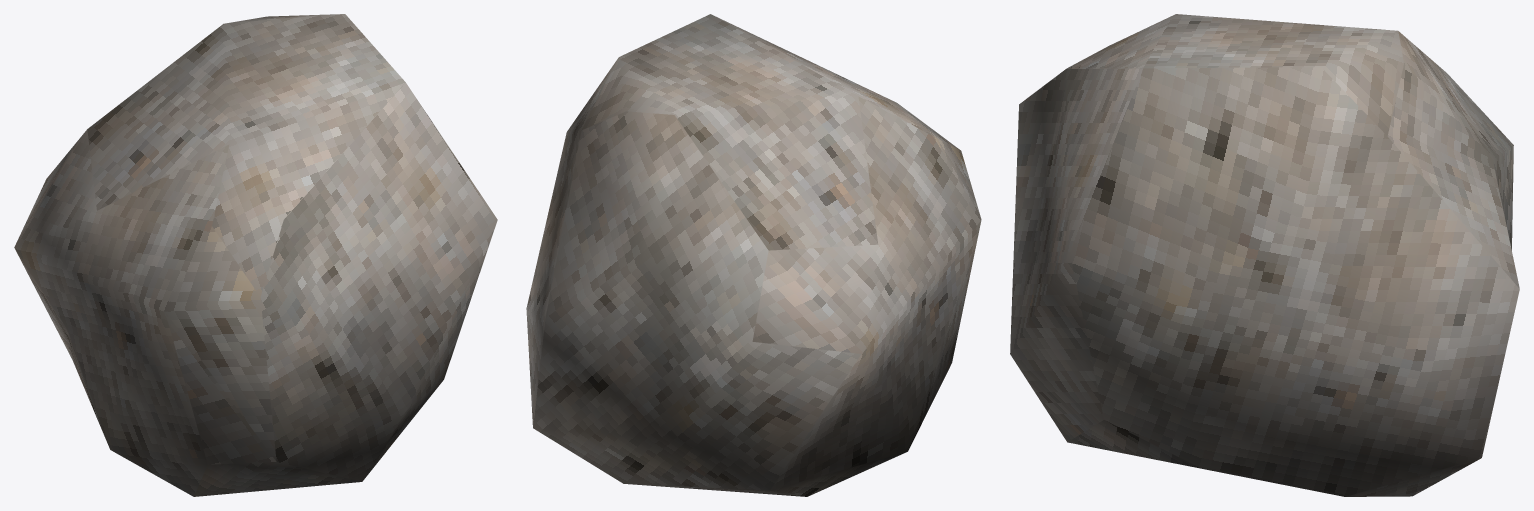
File: rock_5.glb
3 views of the same model, side by side, from view 1: azimuth 30°, elevation 25°; view 2: azimuth 150°, elevation 25°; view 3: azimuth 270°, elevation 25° (orthographic). The views are drawn at different scales.
Visible parts, largest first — view 1: rock 5; view 2: rock 5; view 3: rock 5.
Boxes of the visible parts, box(x1,y1,x2,y2) form: rock 5: box(14, 14, 497, 496); rock 5: box(526, 14, 981, 496); rock 5: box(1010, 14, 1519, 496).
Bounding box in the file's own units: 1.86 × 1.91 × 1.94.
Materials: 1 (1 with a texture image).
